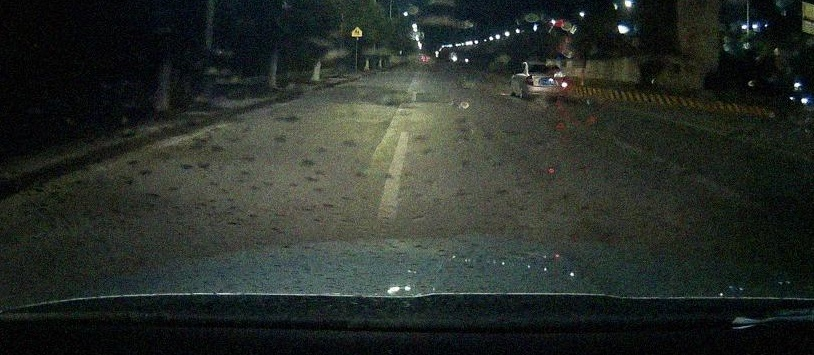L_light: (525, 75, 534, 86)
R_light: (561, 78, 568, 88)
T_light: (541, 64, 548, 66)
night-right: (524, 63, 569, 99)
